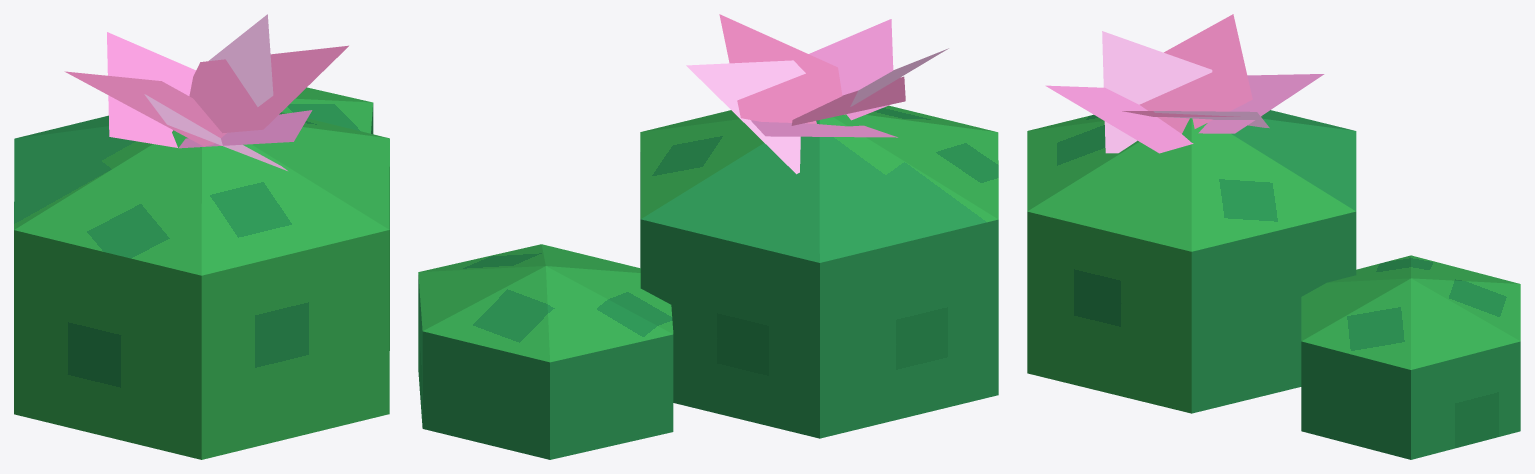
The model's file is small_cactus_1.gltf.
3 renders of one model, left to right at view 1: azimuth 30°, elevation 25°; view 2: azimuth 150°, elevation 25°; view 3: azimuth 270°, elevation 25°, orthographic. The views are drawn at different scales.
Visible parts, largest first — view 1: cylinder (×2), group3, group4; view 2: cylinder (×2), group4, group3; view 3: cylinder (×2), group4, group3.
Boxes of the visible parts, x1,y1,x2,y2 form: cylinder (×2): [14, 87, 389, 459]; group3: [107, 32, 348, 170]; group4: [64, 14, 312, 148]; cylinder (×2): [418, 105, 998, 459]; group4: [686, 19, 905, 174]; group3: [719, 14, 948, 137]; cylinder (×2): [1027, 110, 1520, 459]; group4: [1045, 14, 1269, 153]; group3: [1102, 31, 1324, 153].
Size of the model in its own units: 0.2797 by 0.1699 by 0.2812.
1 material, 1 textured.
